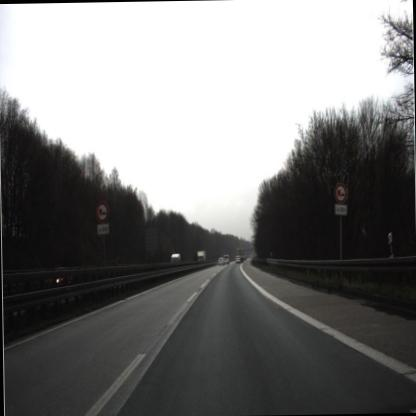prohibitory: (92, 196, 110, 226), (332, 179, 347, 205)
